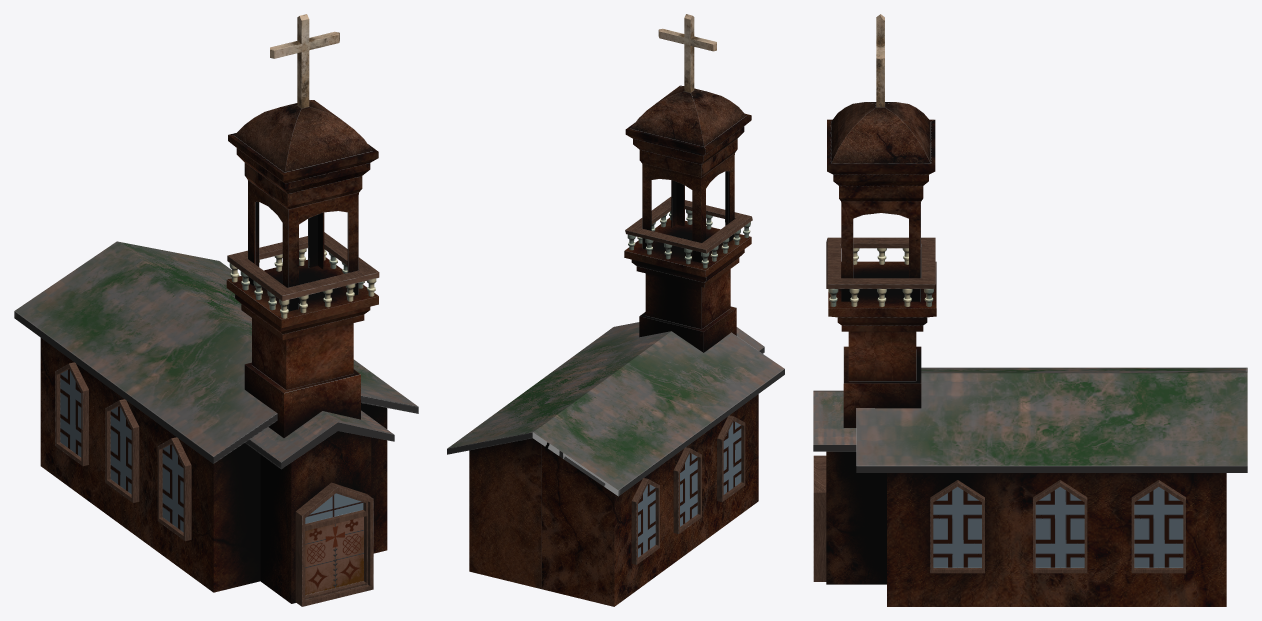
The model's file is Iglesia--Cementerio.fbx.
3 renders of one model, left to right at view 1: azimuth 30°, elevation 25°; view 2: azimuth 150°, elevation 25°; view 3: azimuth 270°, elevation 25°, orthographic. The views are drawn at different scales.
Visible parts, largest first — view 1: Iglesia; view 2: Iglesia; view 3: Iglesia.
Part boxes in pixels (bbox=[...]): Iglesia: bbox=[14, 14, 418, 606]; Iglesia: bbox=[447, 14, 784, 606]; Iglesia: bbox=[813, 14, 1247, 606].
Bounding box in the file's own units: 3689 × 9611 × 6886.
